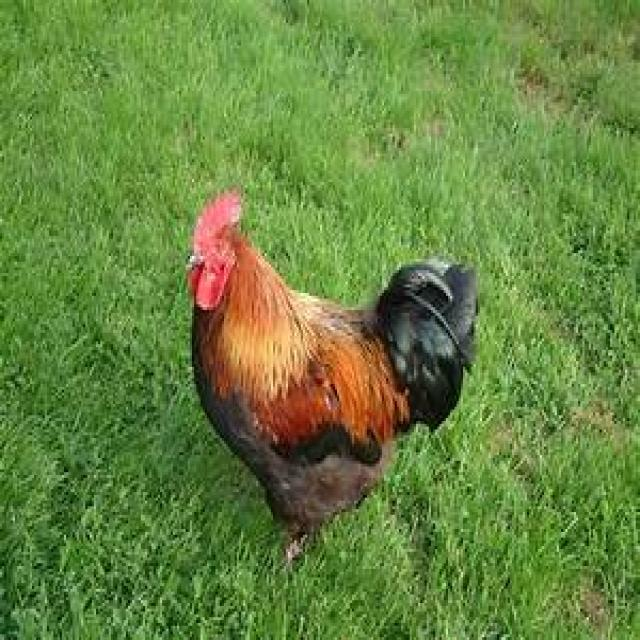animal: (183, 188, 478, 569)
